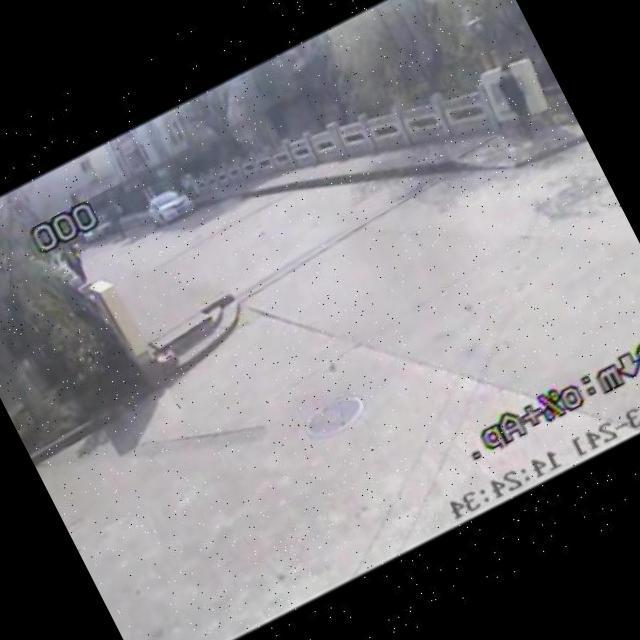person: (484, 61, 550, 145), (51, 238, 93, 290), (175, 174, 201, 202)
